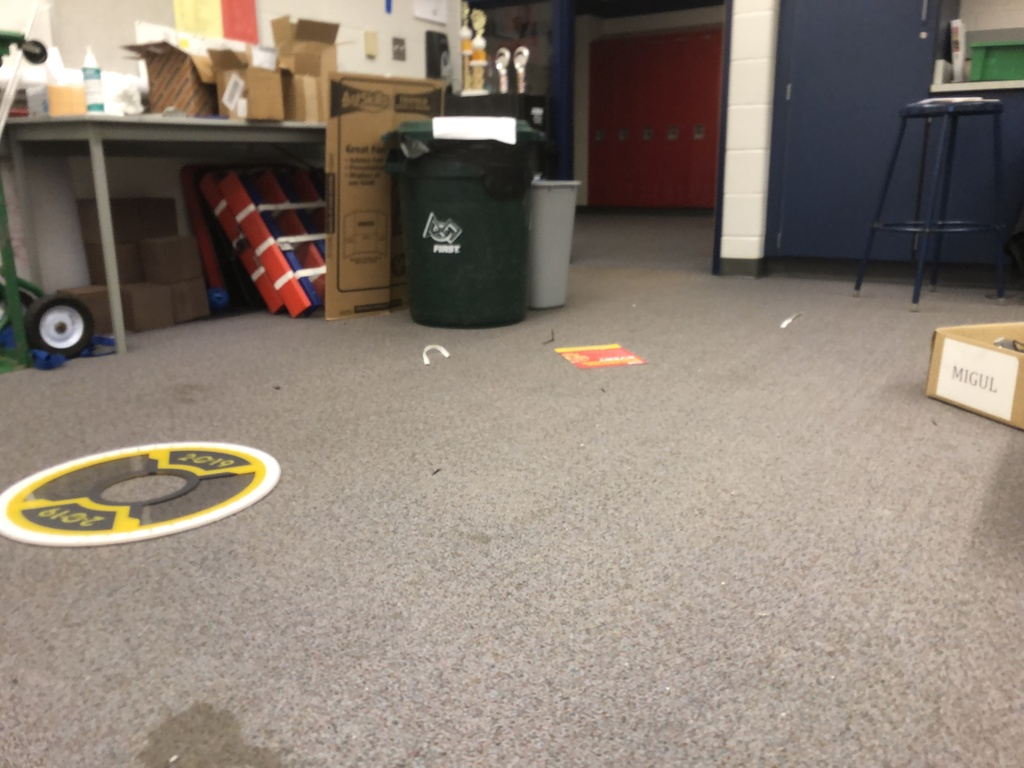hatch_panel: (1, 436, 289, 554)
